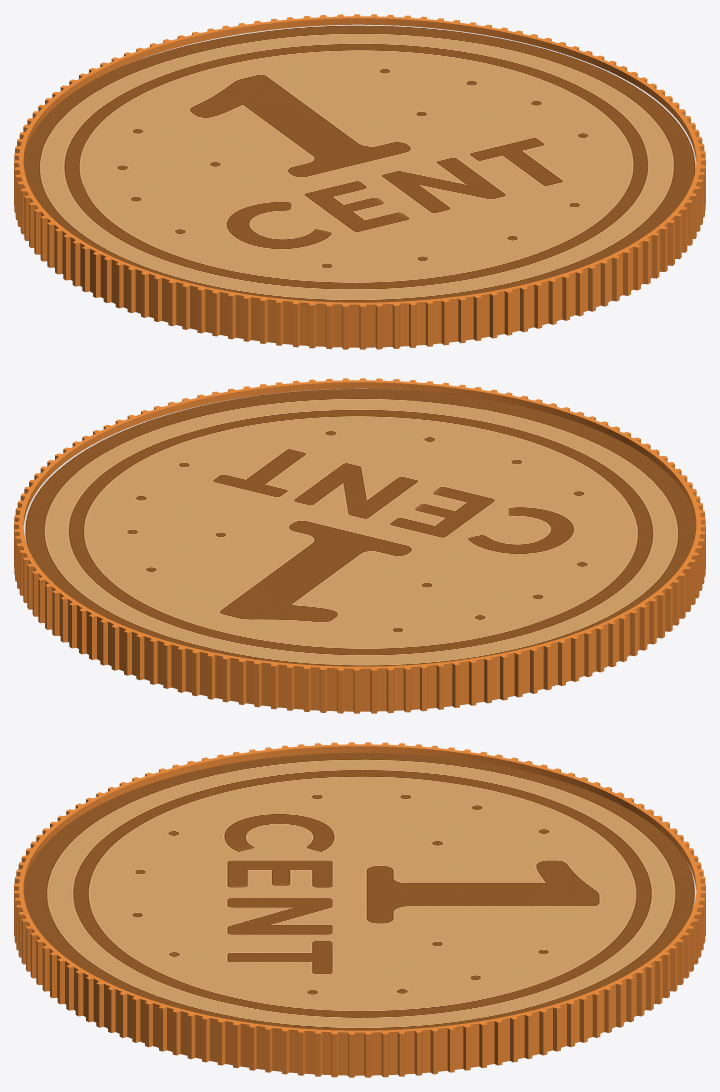
3 views of the same model, one above another, from view 1: azimuth 30°, elevation 25°; view 2: azimuth 150°, elevation 25°; view 3: azimuth 270°, elevation 25° (orthographic).
Visible parts, largest first — view 1: Cylinder; view 2: Cylinder; view 3: Cylinder.
Part boxes in pixels (left/top/right/bottom): Cylinder: left=14, top=14, right=705, bottom=349; Cylinder: left=14, top=378, right=705, bottom=713; Cylinder: left=14, top=742, right=705, bottom=1077.
Bounding box in the file's own units: 2.14 × 0.1469 × 2.14.
Materials: 2 (1 with a texture image).
